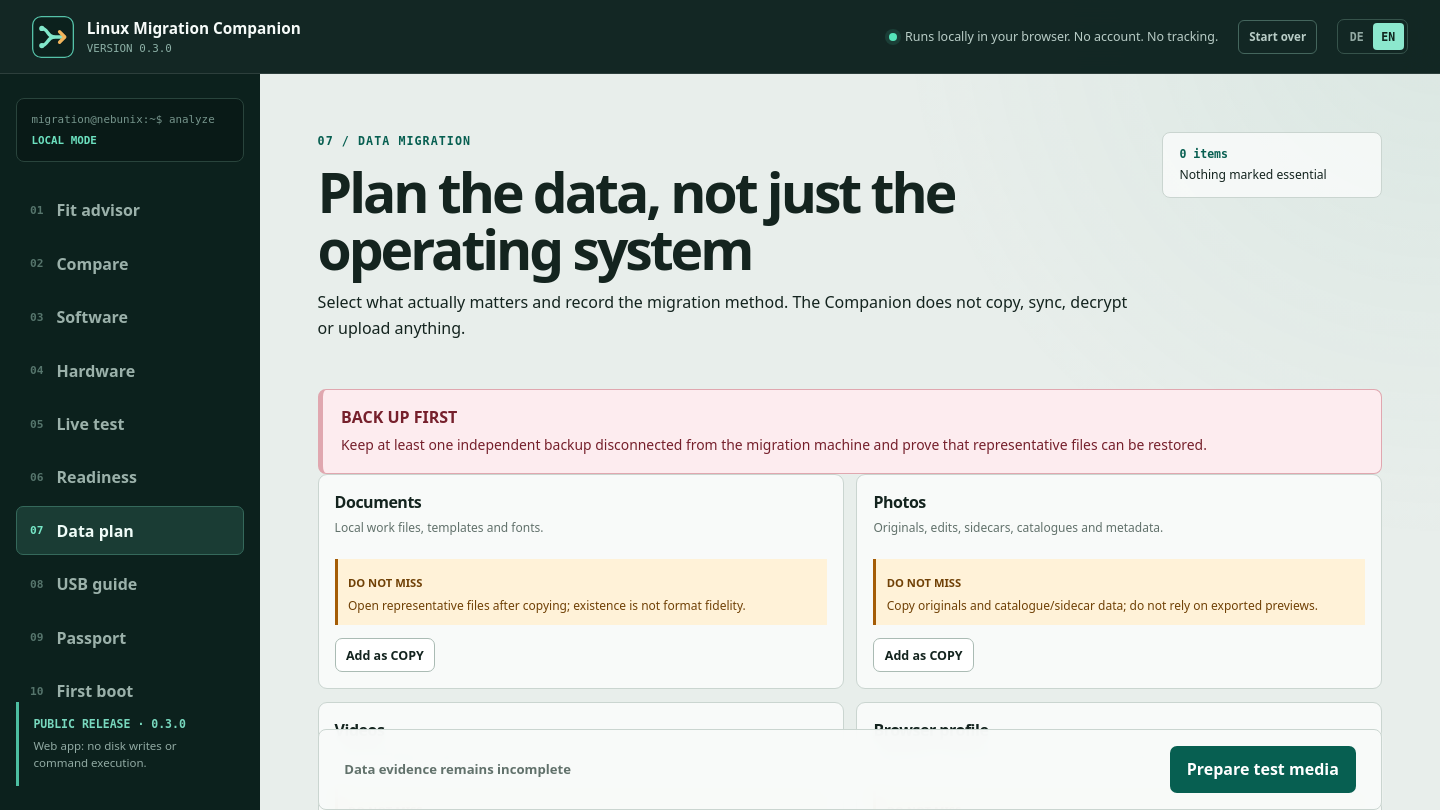
Test: public release application flow › supports stable direct section URLs and browser history state
Expected: the heading "Plan the data, not just the operating system" is shown, [318,154,954,286]
Click the button "03 Software".
click(130, 317)  # box [16,293,244,342]
(page scrolled)
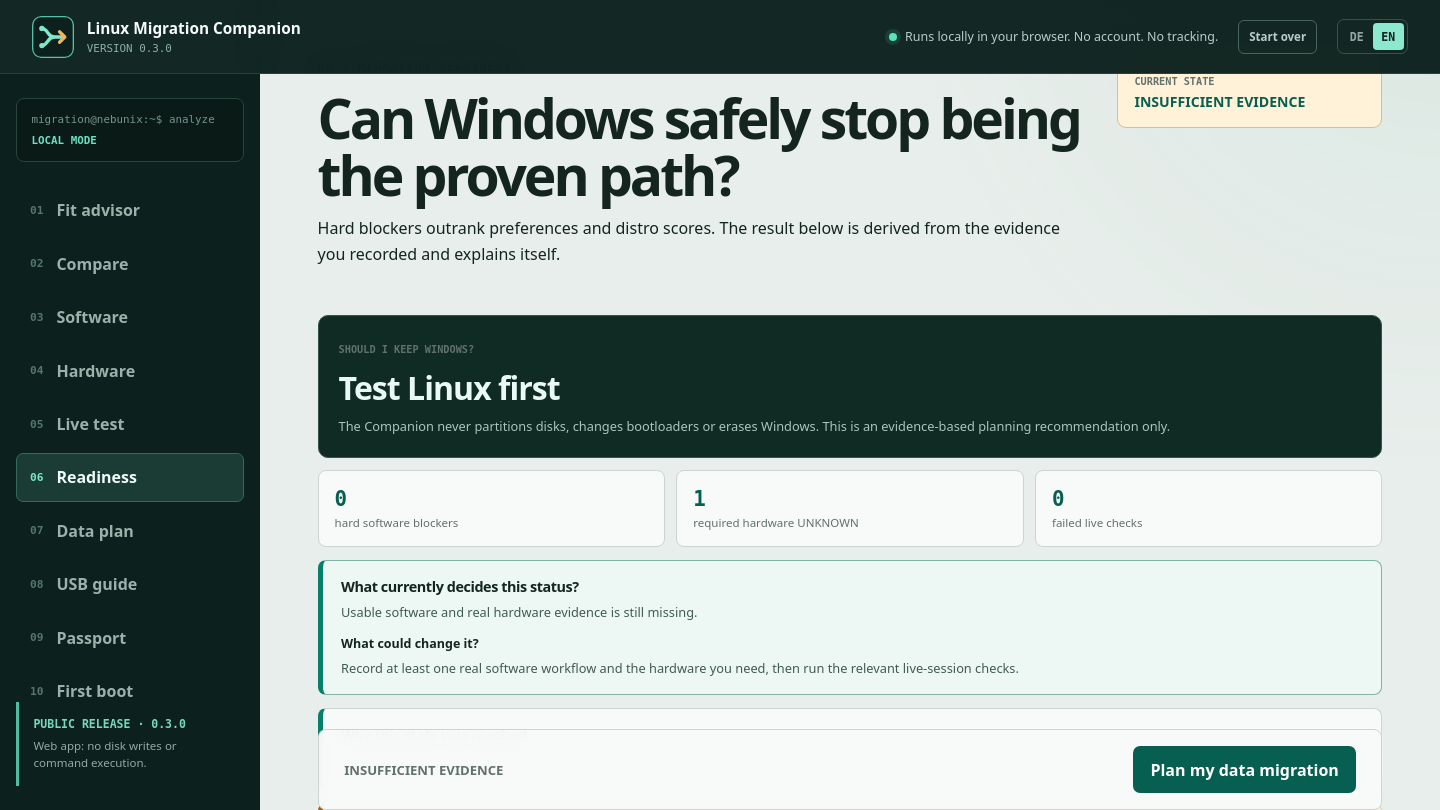
Now the heading "Can Windows safely stop being the proven path?" is shown, box [318,88,1085,204]
